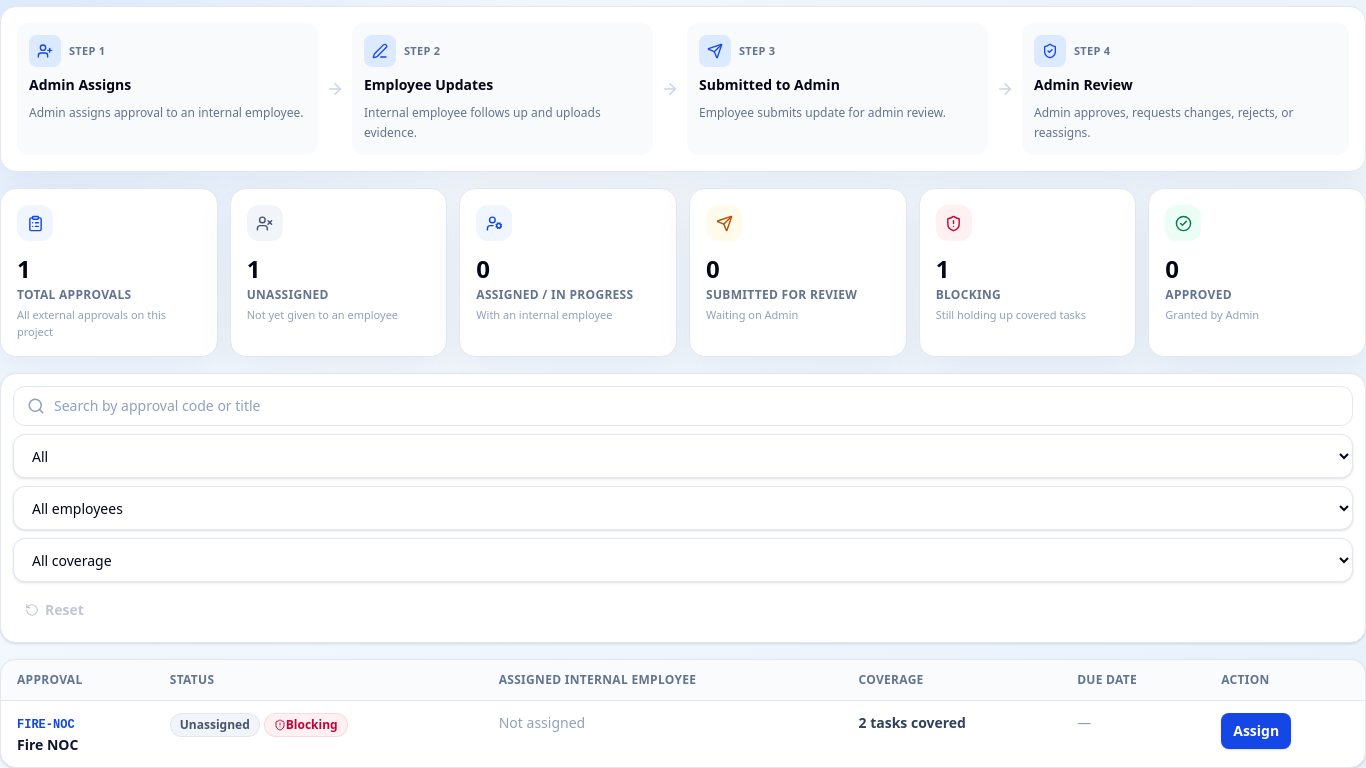
Test case: ExternalApprovalsPanel › does not render the approval detail drawer until a row is selected, then opens it
(page scrolled)
Expected: the text "Assignment summary" is not shown
Step 1. Click the text "FIRE-NOC" → (46, 725), box left=17, top=718, right=75, bottom=732
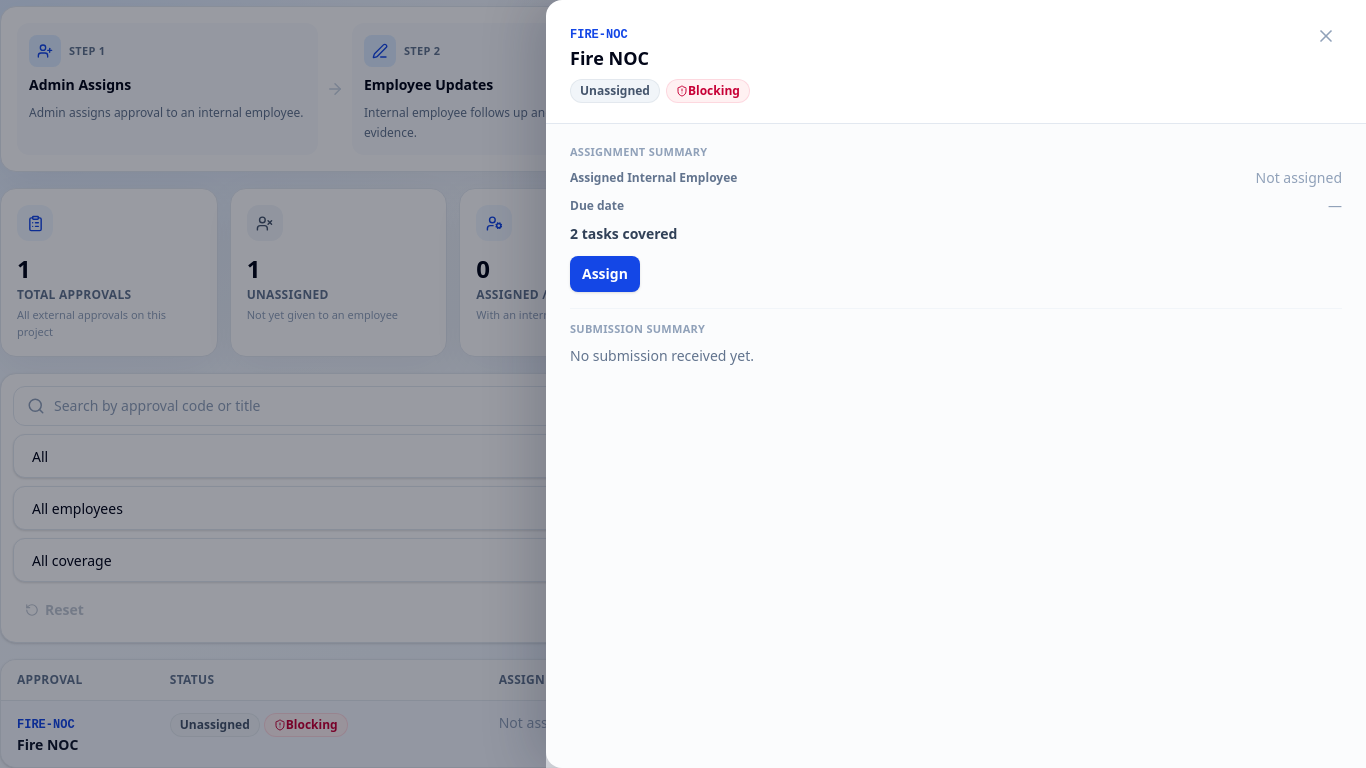
Result: the heading "Assignment summary" is shown at left=570, top=144, right=707, bottom=159
